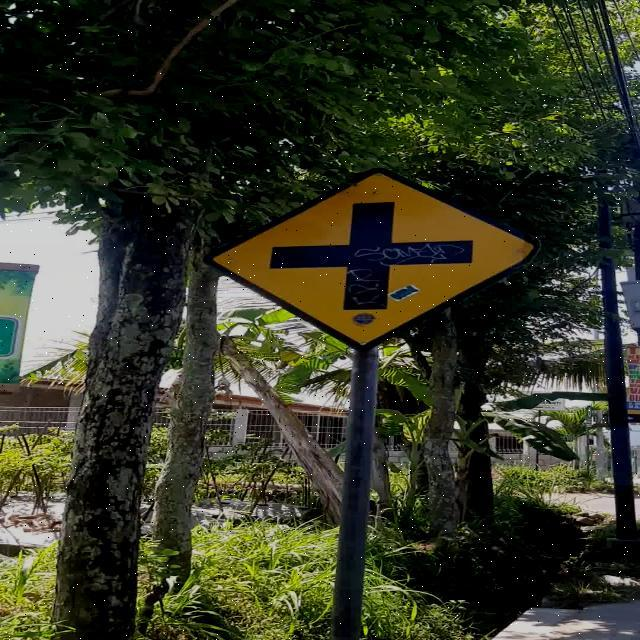Persimpangan 4: (204, 166, 544, 352)
